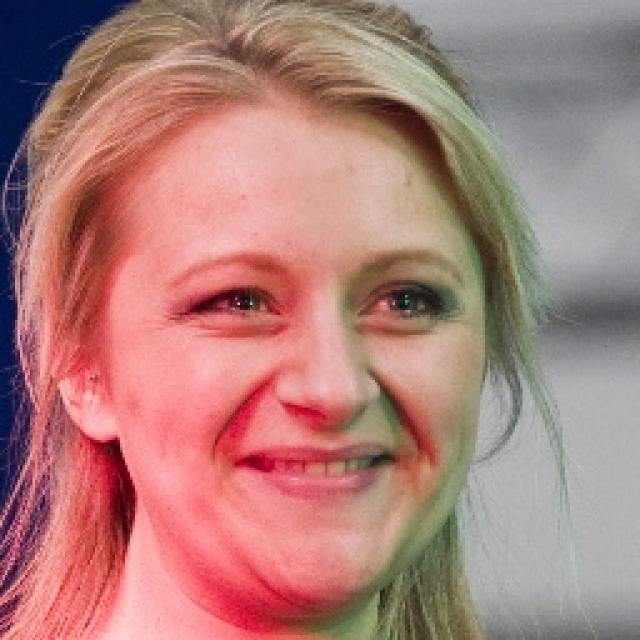earlobe: (42, 269, 120, 445)
